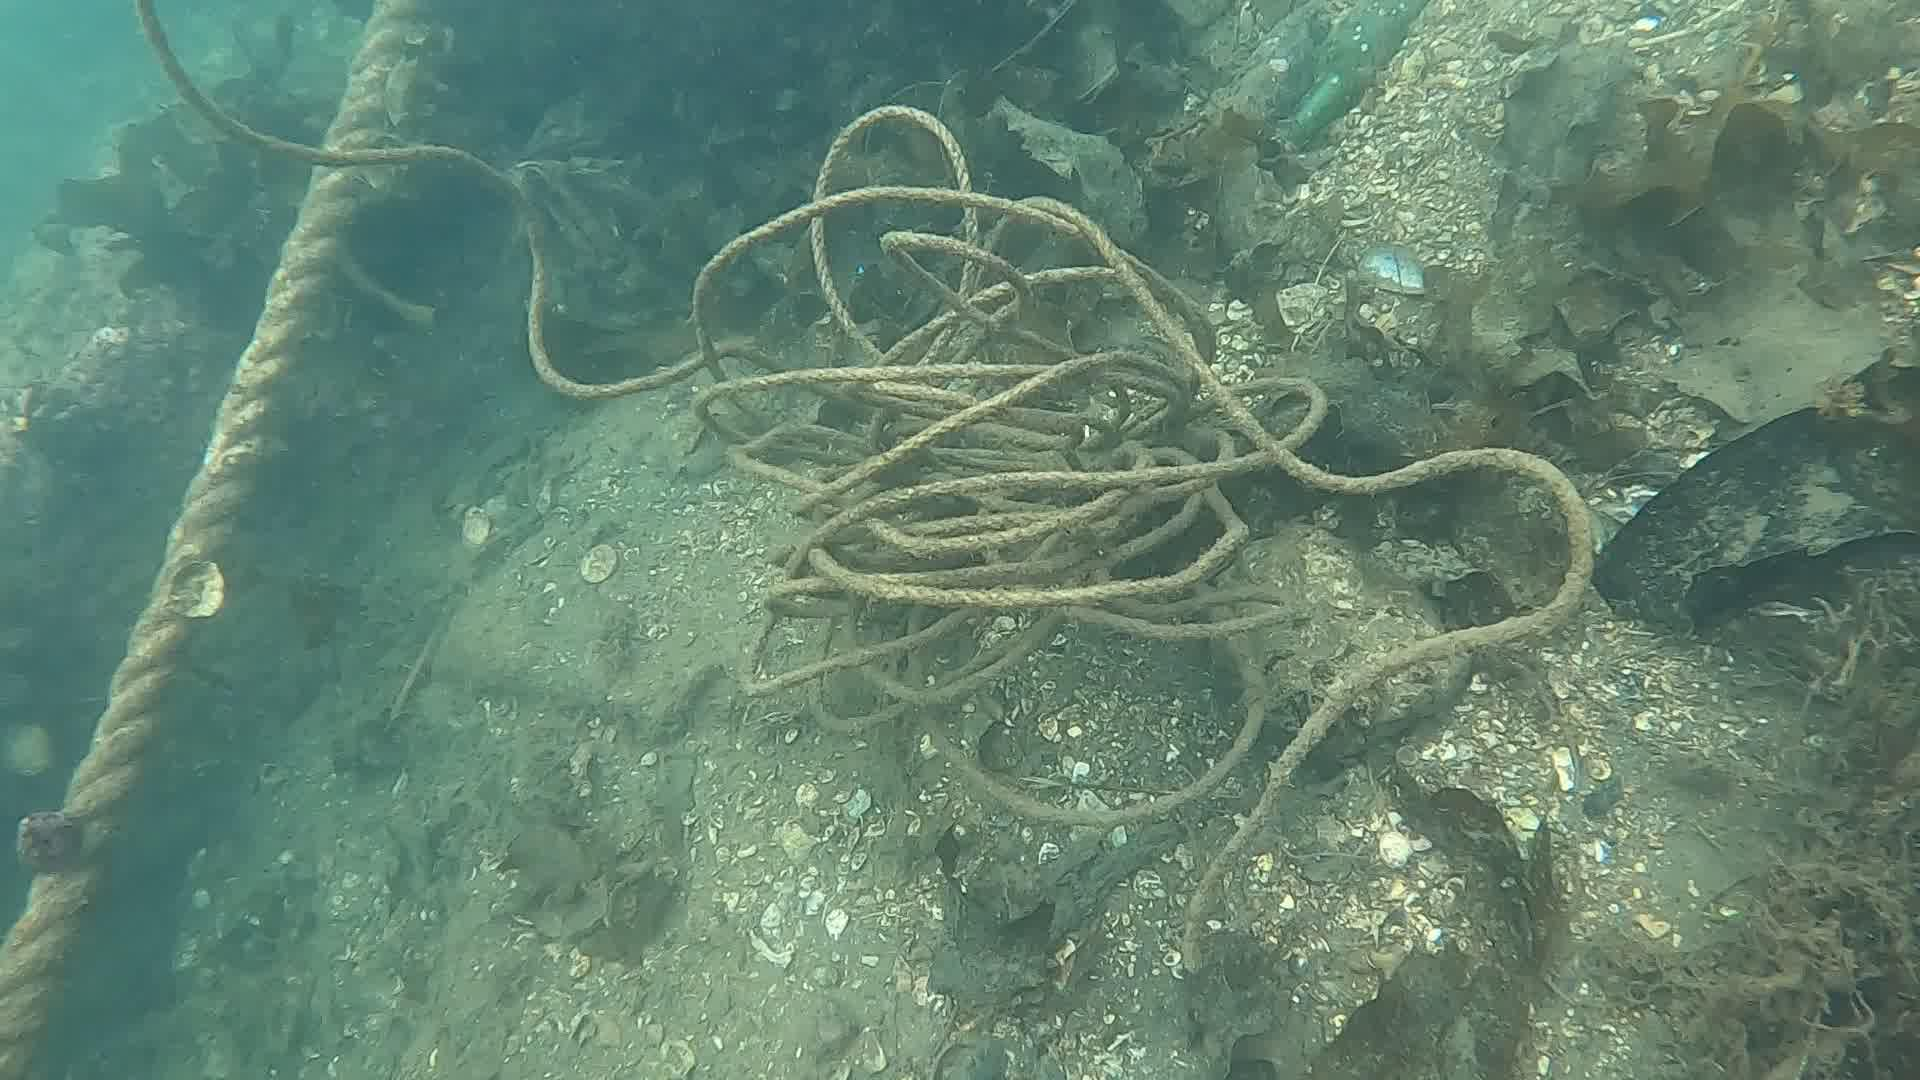bundle of ropes: (133, 0, 1596, 975)
rope: (0, 0, 436, 1073)
